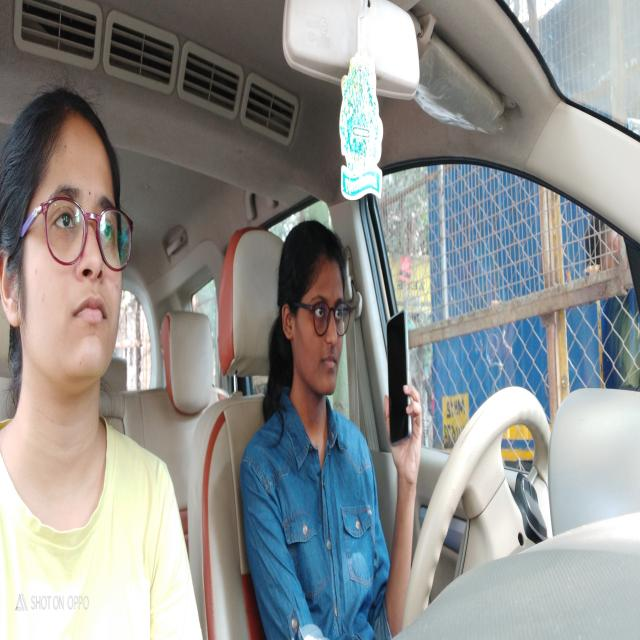mobile: (379, 290, 417, 476)
person: (0, 77, 140, 468), (275, 223, 357, 460)
